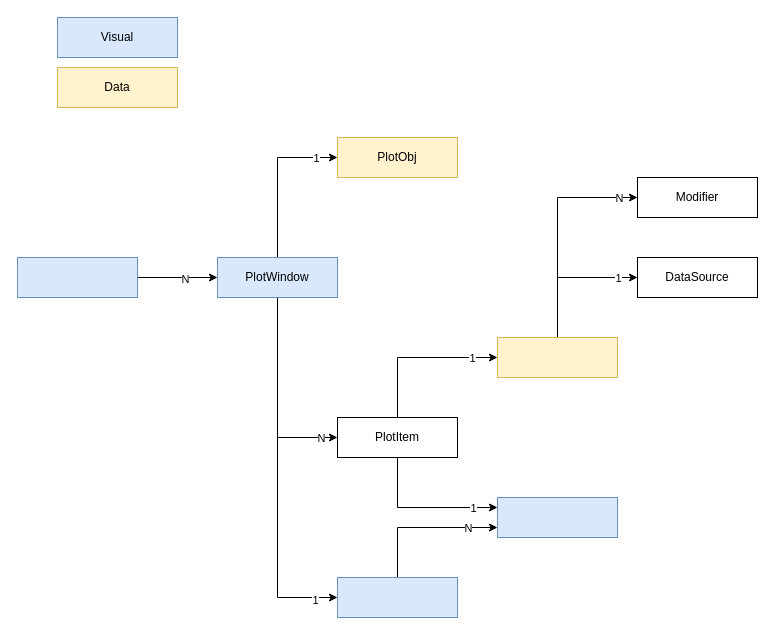
The diagram is 775 pixels wide and 635 high, and some of its shapes have lost their labels. The shapes that lost their labels are listed below. From the top down, each one's centre as x and y in pixels, then its label:
the point at 77,277: MainWindow
the point at 557,357: Graph
the point at 557,517: QCPGraph
the point at 397,597: QCPL::Plot
